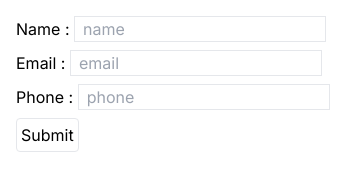
add form › finding input fields using label
Expected: the button "Submit" is disabled, x1=16 y1=118 x2=79 y2=152
In the field labelled "Name :": x=200, y=29 x1=74 y1=16 x2=326 y2=42, type "hasibul hasan"
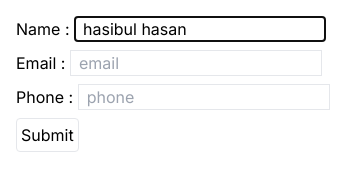
In the field labelled "Email :": x=196, y=63 x1=70 y1=50 x2=322 y2=76, type "hasib@gmail.com"
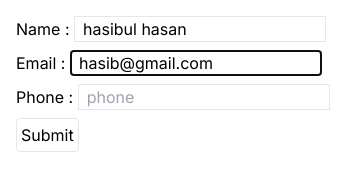
In the field labelled "Phone :": x=204, y=97 x1=78 y1=84 x2=330 y2=110, type "01999999"
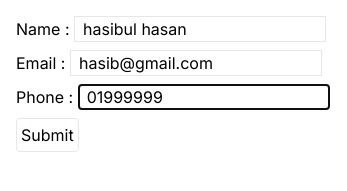
Click the button "Submit": x=47, y=135 x1=16 y1=118 x2=79 y2=152
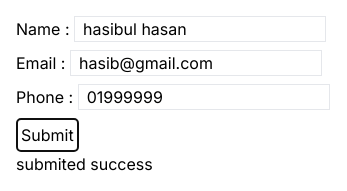
Expected: the heading "submited success" is shown, x1=16 y1=154 x2=153 y2=174
